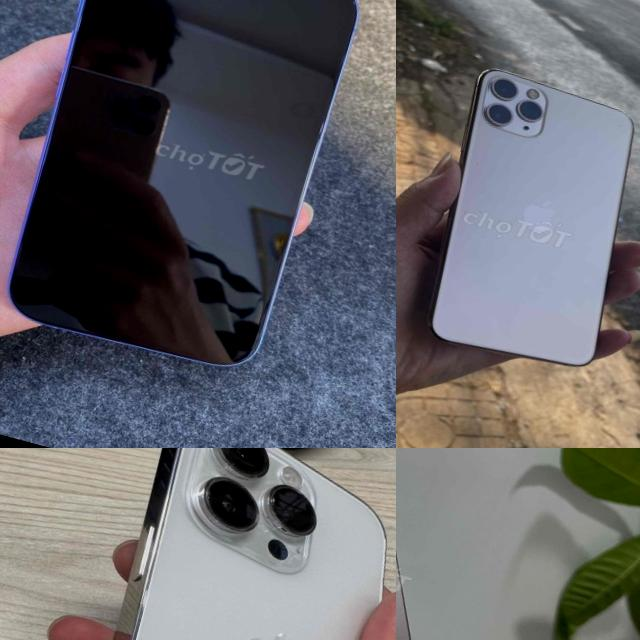gen_11: (400, 53, 640, 380)
gen_12_13: (396, 448, 528, 640)
gen_14: (27, 448, 396, 640)
gen_16: (6, 0, 356, 365)
